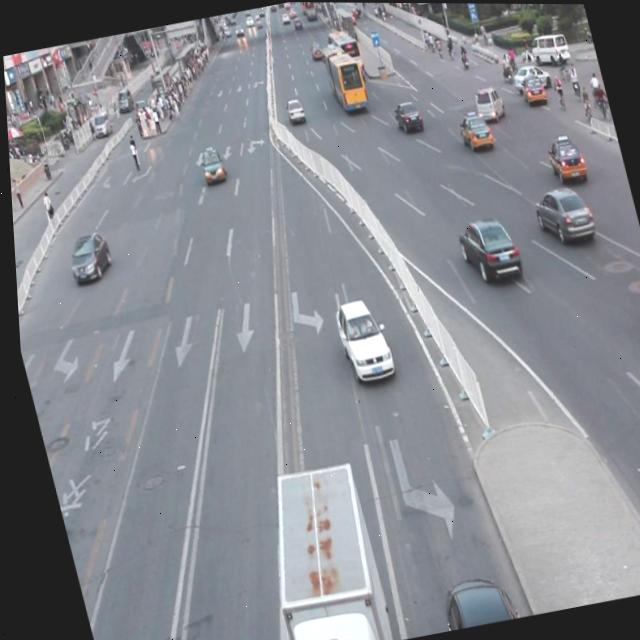bus: (240, 453, 389, 640)
car: (327, 294, 393, 386), (428, 566, 512, 631), (450, 212, 520, 285), (527, 181, 593, 247), (61, 228, 114, 286), (541, 133, 586, 188), (454, 111, 493, 152), (635, 286, 640, 345)
